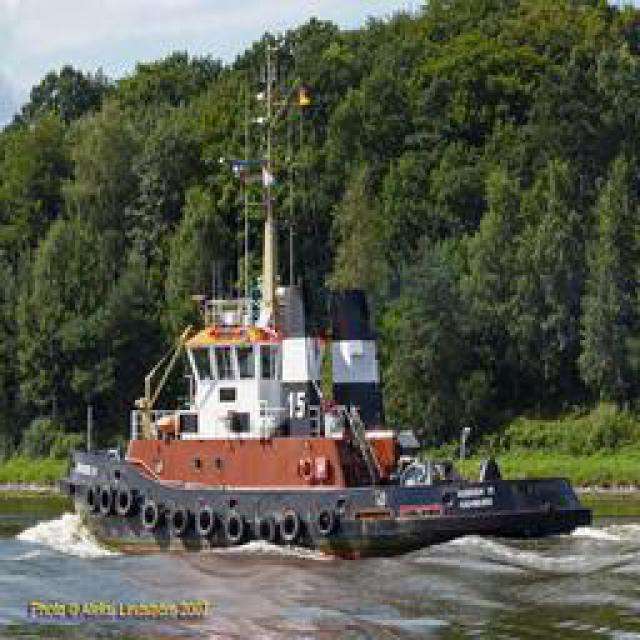Ship: (62, 291, 582, 551)
